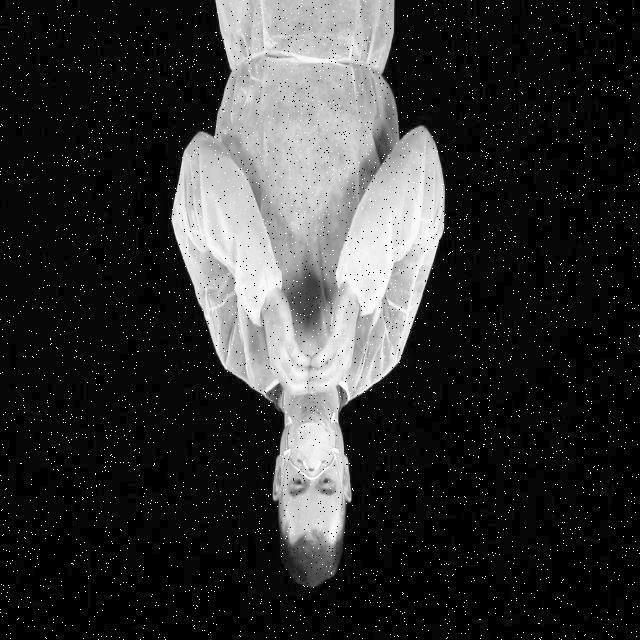mask: (285, 408, 337, 478)
no_gloves: (286, 500, 362, 592)
